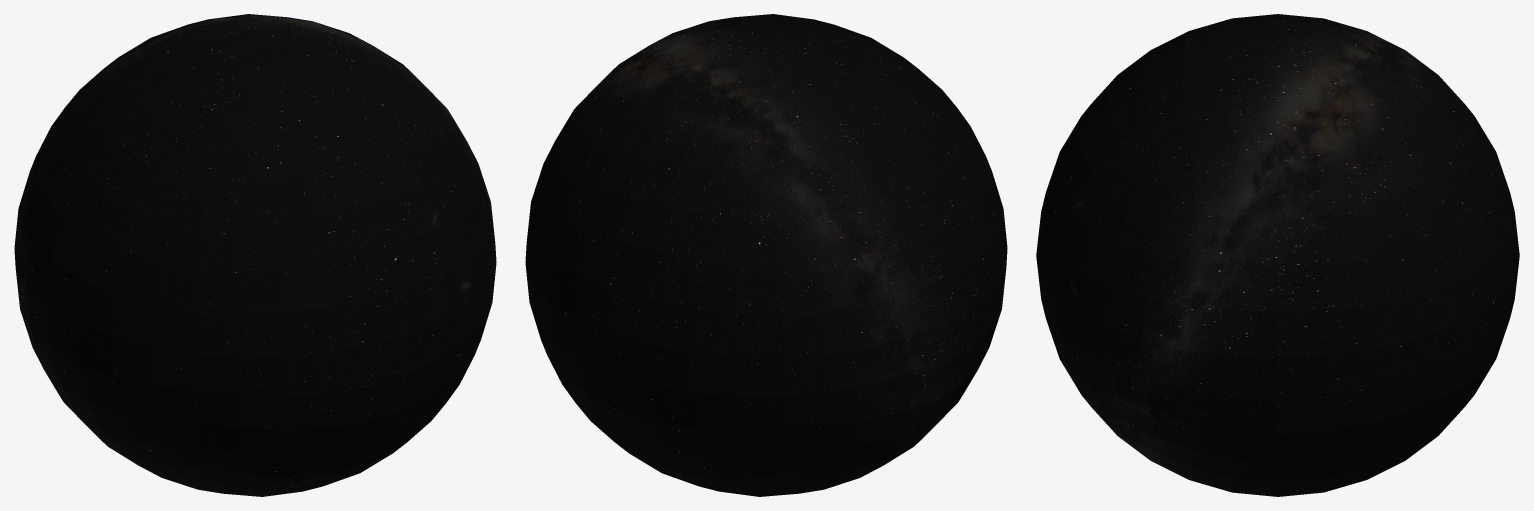
Rendered from starglobe_mesh_2K.fbx.
3 renders of one model, left to right at view 1: azimuth 30°, elevation 25°; view 2: azimuth 150°, elevation 25°; view 3: azimuth 270°, elevation 25°, orthographic.
Parts seen in each view (by area): view 1: polyStarglobe; view 2: polyStarglobe; view 3: polyStarglobe.
Boxes of the visible parts, bbox=[...] form: polyStarglobe: bbox=[14, 14, 496, 496]; polyStarglobe: bbox=[525, 14, 1007, 496]; polyStarglobe: bbox=[1036, 14, 1519, 496].
Size of the model in its own units: 1191 by 1189 by 1191.
Materials: 1 (1 with a texture image).
